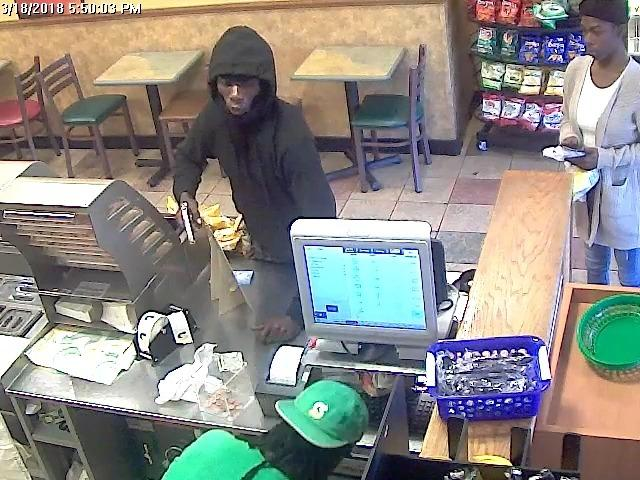weapon: (167, 197, 206, 249)
